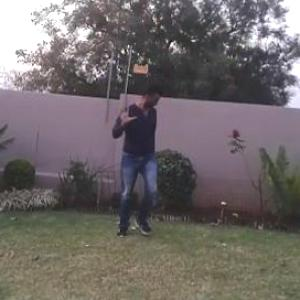follow_hand: (114, 97, 139, 129)
